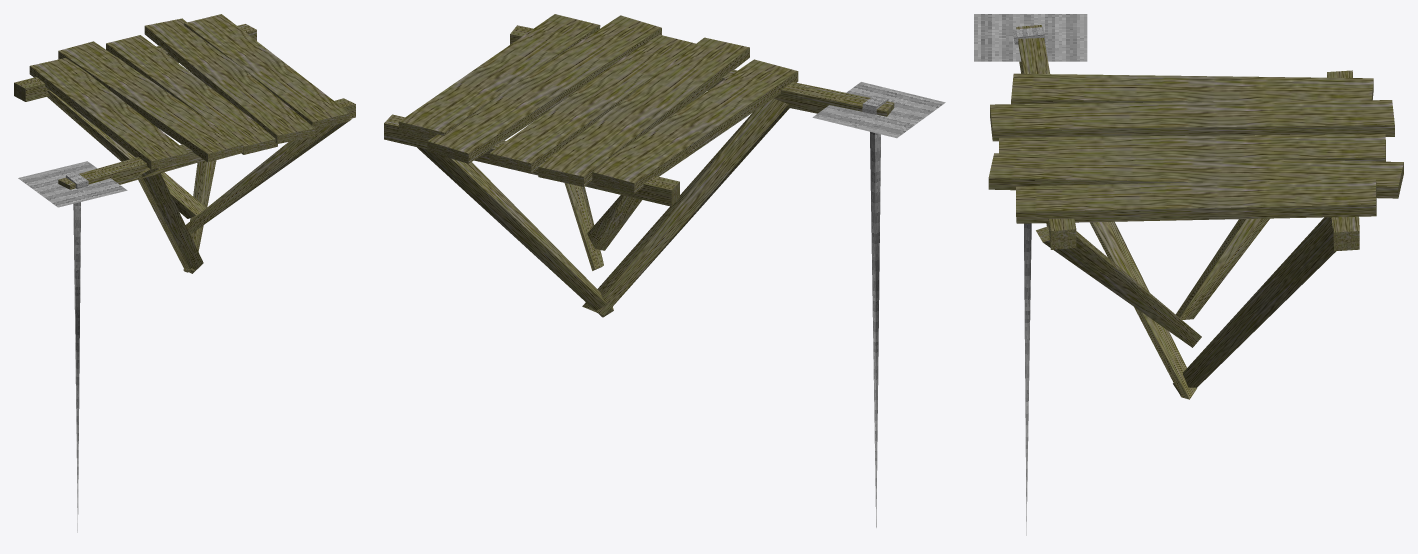
File: treehouse.obj
3 renders of one model, left to right at view 1: azimuth 30°, elevation 25°; view 2: azimuth 150°, elevation 25°; view 3: azimuth 270°, elevation 25°, orthographic. The views are drawn at different scales.
Parts seen in each view (by area): view 1: Duplicate12, Duplicate10, Duplicate13, Duplicate09, Duplicate11, Duplicate05, Duplicate03, climbplat, Duplicate04, Duplicate02, Box01, Duplicate06 (+1 smaller); view 2: Duplicate10, Duplicate12, Duplicate13, Duplicate11, Duplicate09, Duplicate03, Duplicate06, climbplat, Box01, Duplicate02, Duplicate01, Duplicate04 (+1 smaller); view 3: Duplicate12, Duplicate09, Duplicate10, Duplicate13, Duplicate11, Duplicate06, climbplat, Duplicate05, Duplicate03, Duplicate04, Duplicate02, Box01 (+1 smaller).
Boxes of the visible parts, <box> form: Duplicate12: <box>58,41,243,162</box>; Duplicate10: <box>144,18,315,143</box>; Duplicate13: <box>29,58,189,169</box>; Duplicate09: <box>184,14,349,129</box>; Duplicate11: <box>106,35,277,154</box>; Duplicate05: <box>185,117,351,233</box>; Duplicate03: <box>138,168,203,273</box>; climbplat: <box>18,161,127,207</box>; Duplicate04: <box>47,89,206,218</box>; Duplicate02: <box>58,98,355,189</box>; Box01: <box>73,202,80,532</box>; Duplicate06: <box>183,160,216,272</box>; Duplicate10: <box>427,15,661,163</box>; Duplicate12: <box>538,37,749,186</box>; Duplicate13: <box>591,59,798,193</box>; Duplicate11: <box>489,34,695,173</box>; Duplicate09: <box>398,14,600,139</box>; Duplicate03: <box>582,98,789,315</box>; Duplicate06: <box>417,147,613,317</box>; climbplat: <box>812,82,945,138</box>; Box01: <box>870,132,880,527</box>; Duplicate02: <box>510,25,894,116</box>; Duplicate01: <box>384,114,679,206</box>; Duplicate04: <box>587,195,641,250</box>; Duplicate12: <box>990,100,1394,141</box>; Duplicate09: <box>1016,179,1376,223</box>; Duplicate10: <box>988,153,1403,198</box>; Duplicate13: <box>1011,73,1373,104</box>; Duplicate11: <box>999,134,1385,161</box>; Duplicate06: <box>1173,217,1335,395</box>; climbplat: <box>974,14,1087,61</box>; Duplicate05: <box>1036,226,1201,347</box>; Duplicate03: <box>1090,221,1196,399</box>; Duplicate04: <box>1176,218,1269,319</box>; Duplicate02: <box>1016,25,1076,249</box>; Box01: <box>1024,223,1031,535</box>.
Size of the model in its own units: 87.59 by 94.54 by 70.93.
